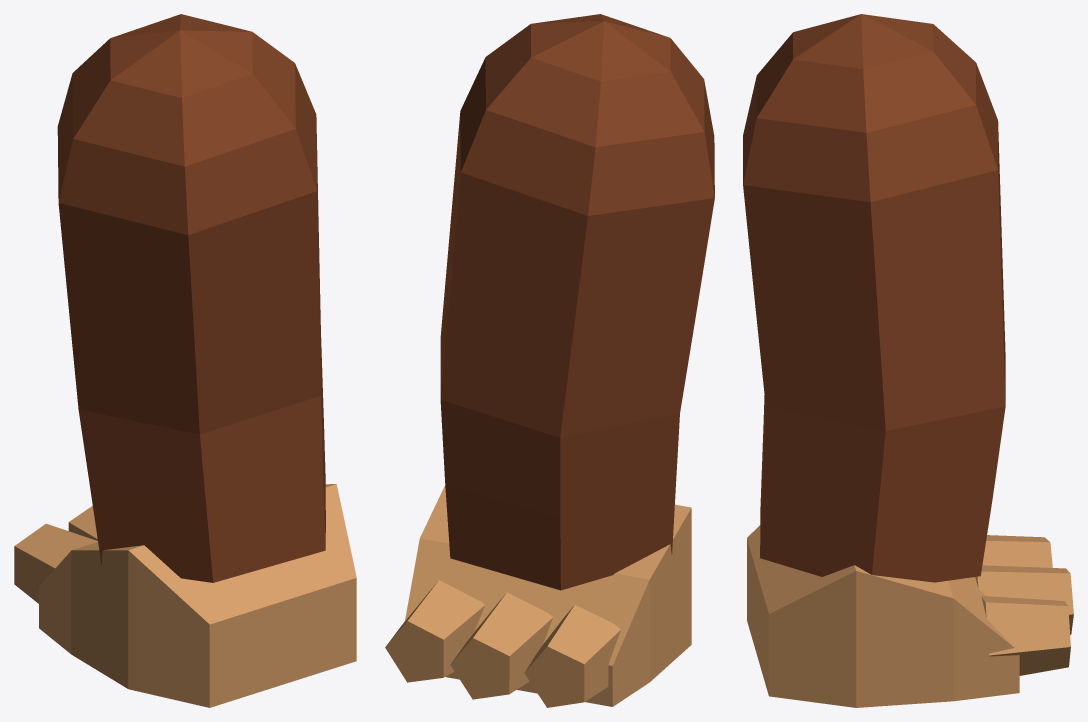
File: ds_monkey_trunk_leg_r.glb
3 views of the same model, side by side, from view 1: azimuth 30°, elevation 25°; view 2: azimuth 150°, elevation 25°; view 3: azimuth 270°, elevation 25° (orthographic).
Visible parts, largest first — view 1: DSMonkeyTrunk_Leg_R; view 2: DSMonkeyTrunk_Leg_R; view 3: DSMonkeyTrunk_Leg_R.
Part boxes in pixels (box(x1,y1,x2,y2)): DSMonkeyTrunk_Leg_R: box(14, 14, 356, 707); DSMonkeyTrunk_Leg_R: box(385, 14, 714, 707); DSMonkeyTrunk_Leg_R: box(743, 14, 1073, 707).
Bounding box in the file's own units: 0.0816 × 0.1808 × 0.0875.
